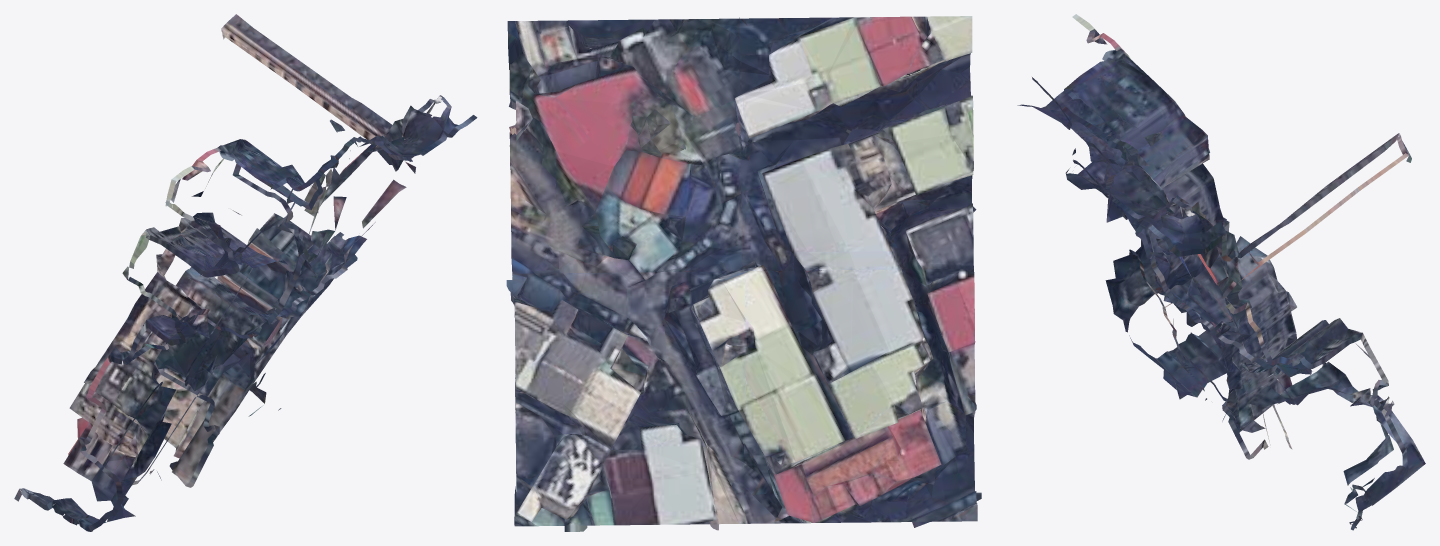
3 views of the same model, side by side, from view 1: azimuth 30°, elevation 25°; view 2: azimuth 150°, elevation 25°; view 3: azimuth 270°, elevation 25° (orthographic). The views are drawn at different scales.
Size of the model in its own units: 88.07 by 77.64 by 73.55.
1 material, 1 textured.
